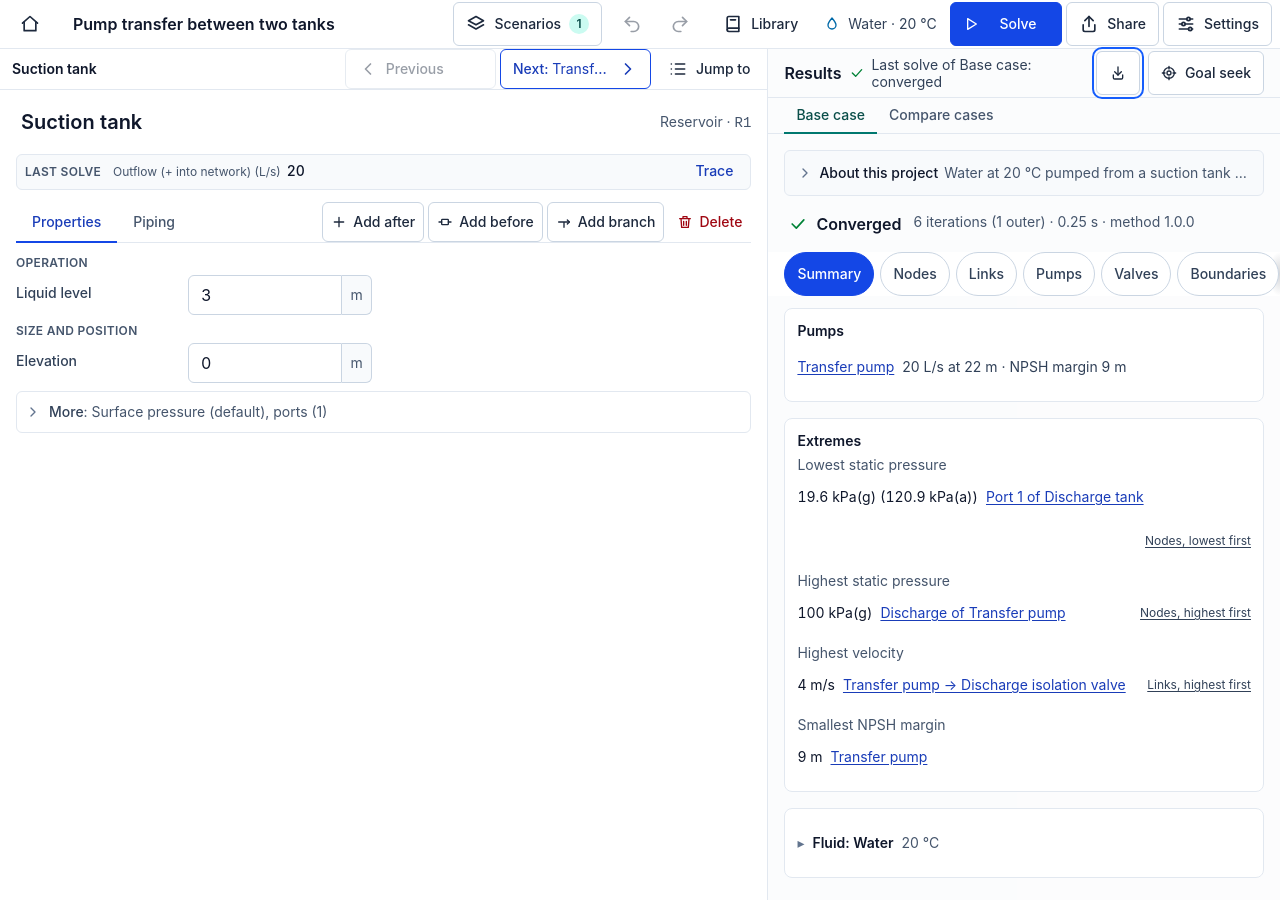
Test case: the export dialog › with scenarios: the case shown or all cases, all cases by default on Compare cases
Click the button named "Export results of Base case" at (1118, 73), box x1=1096 y1=51 x2=1140 y2=95
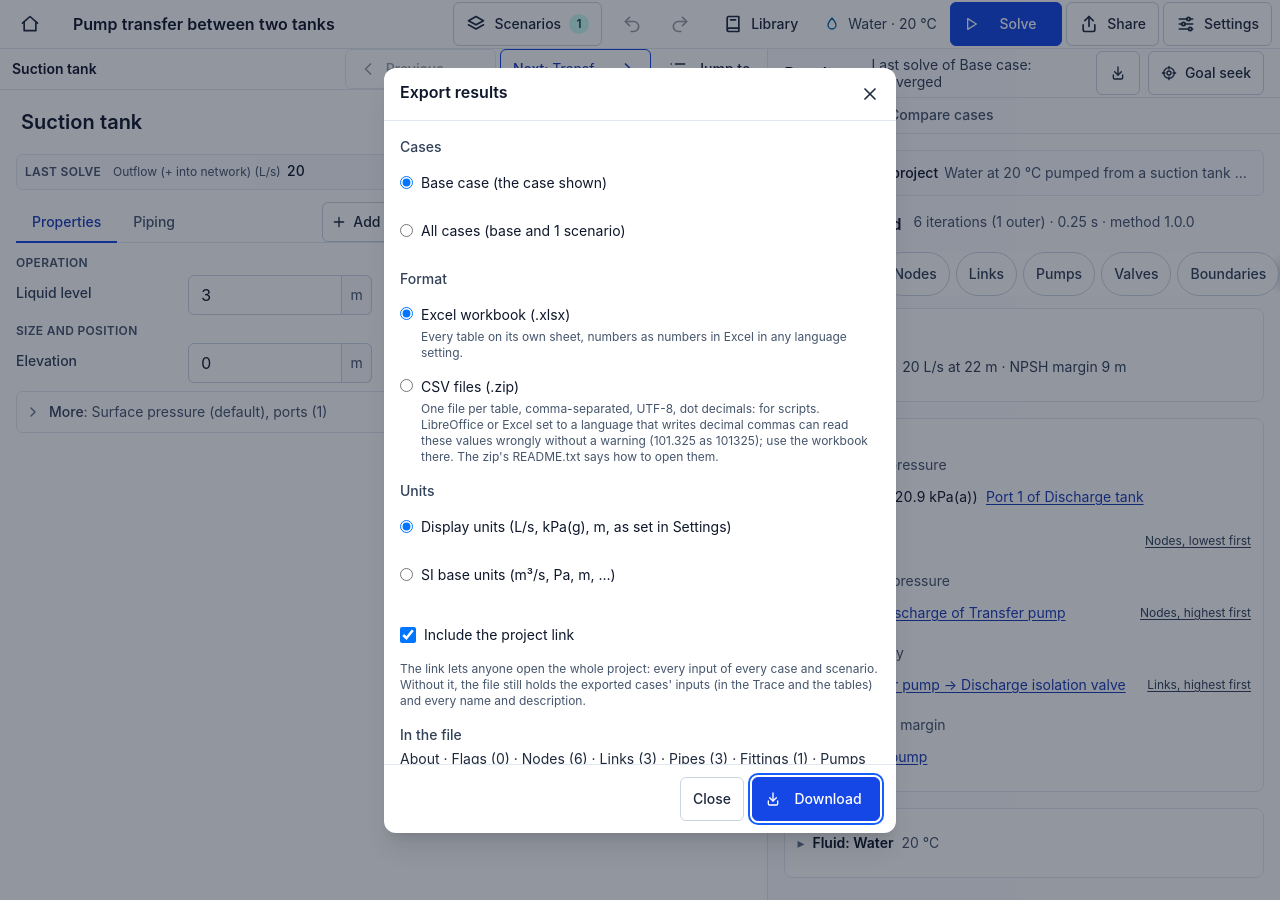
Check: the text "Compare cases" is not shown
Check: the radio button labelled "Base case (the case shown)" is checked, box x1=400 y1=176 x2=413 y2=189
Check: the radio button labelled "All cases (base and 1 scenario)" is not checked
Click the radio button labelled "All cases (base and 1 scenario)" at (406, 230), box x1=400 y1=224 x2=413 y2=237
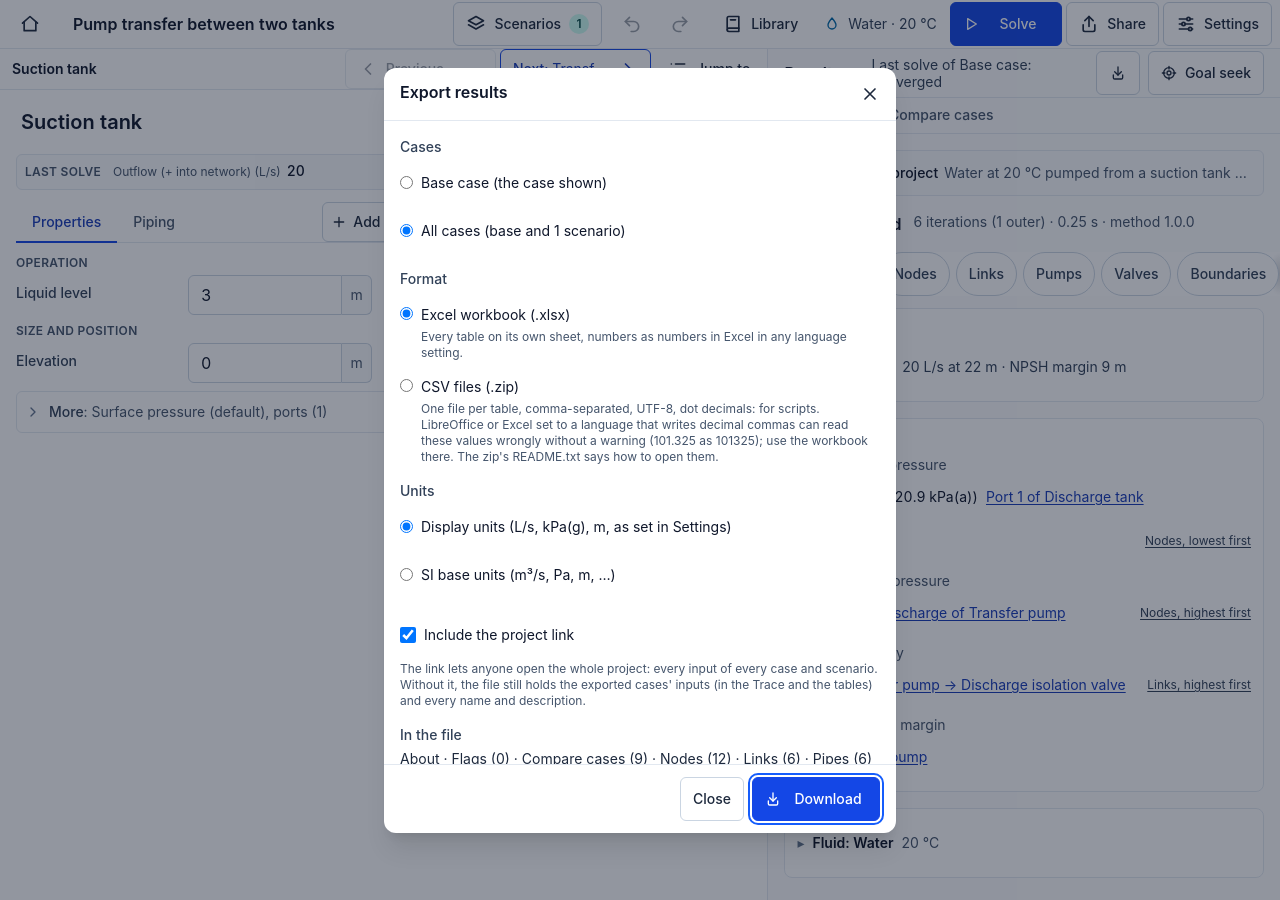
Check: the text "Trace" is not shown
Click the button "Close" at (712, 798), box x1=680 y1=776 x2=744 y2=820
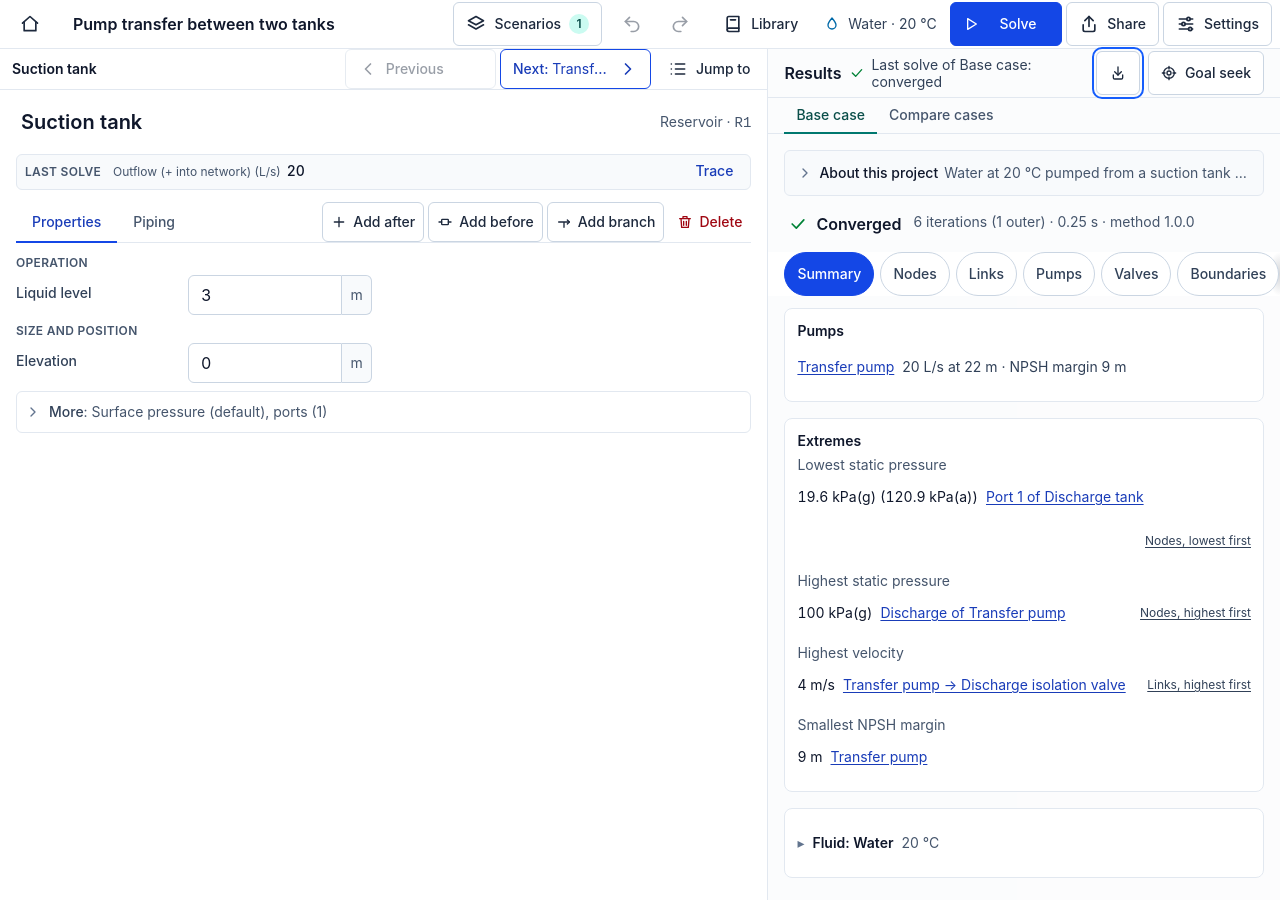
Click the tab "Compare cases" at (941, 116), box x1=877 y1=98 x2=1006 y2=134
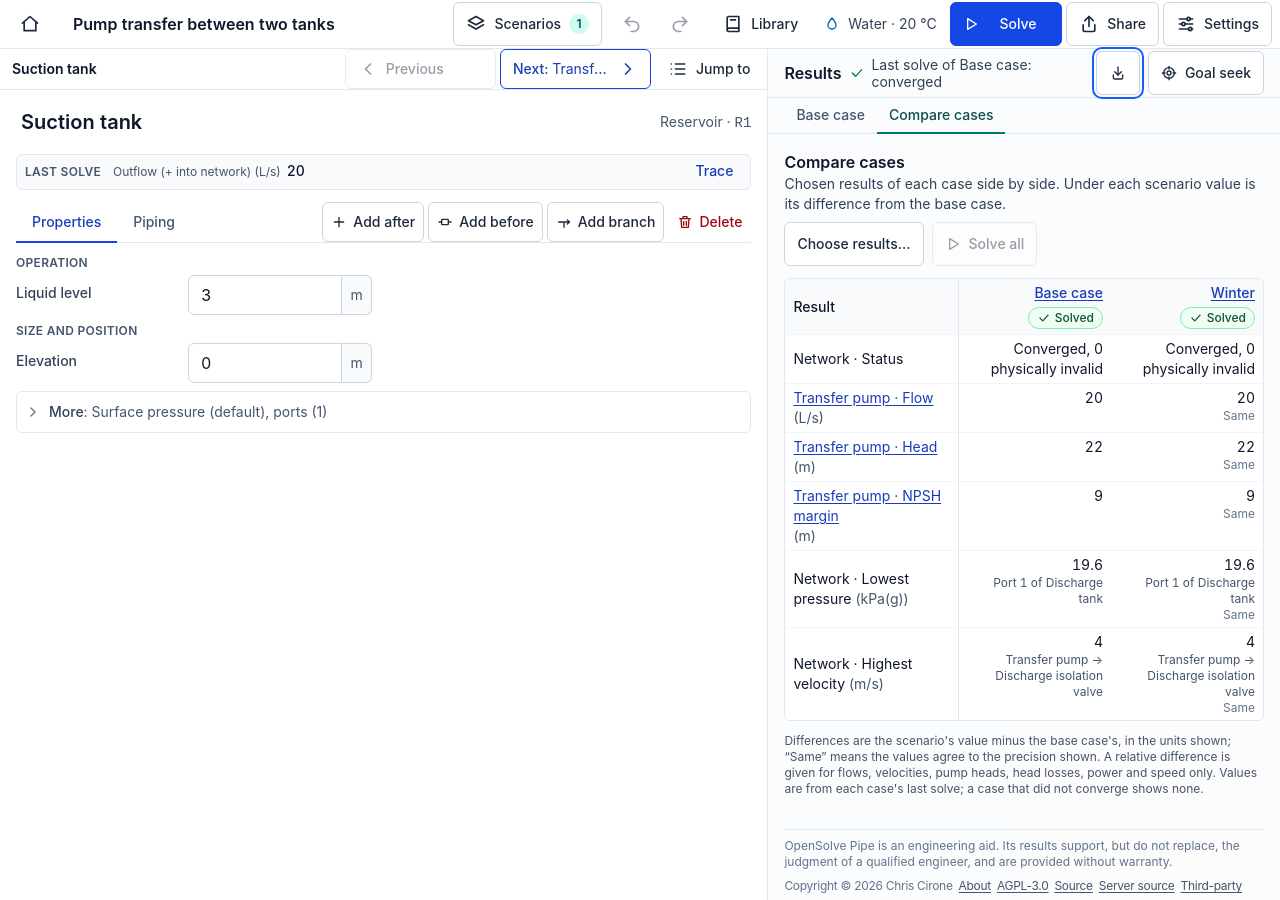
Click the button named "Export results of all cases" at (1118, 73), box x1=1096 y1=51 x2=1140 y2=95
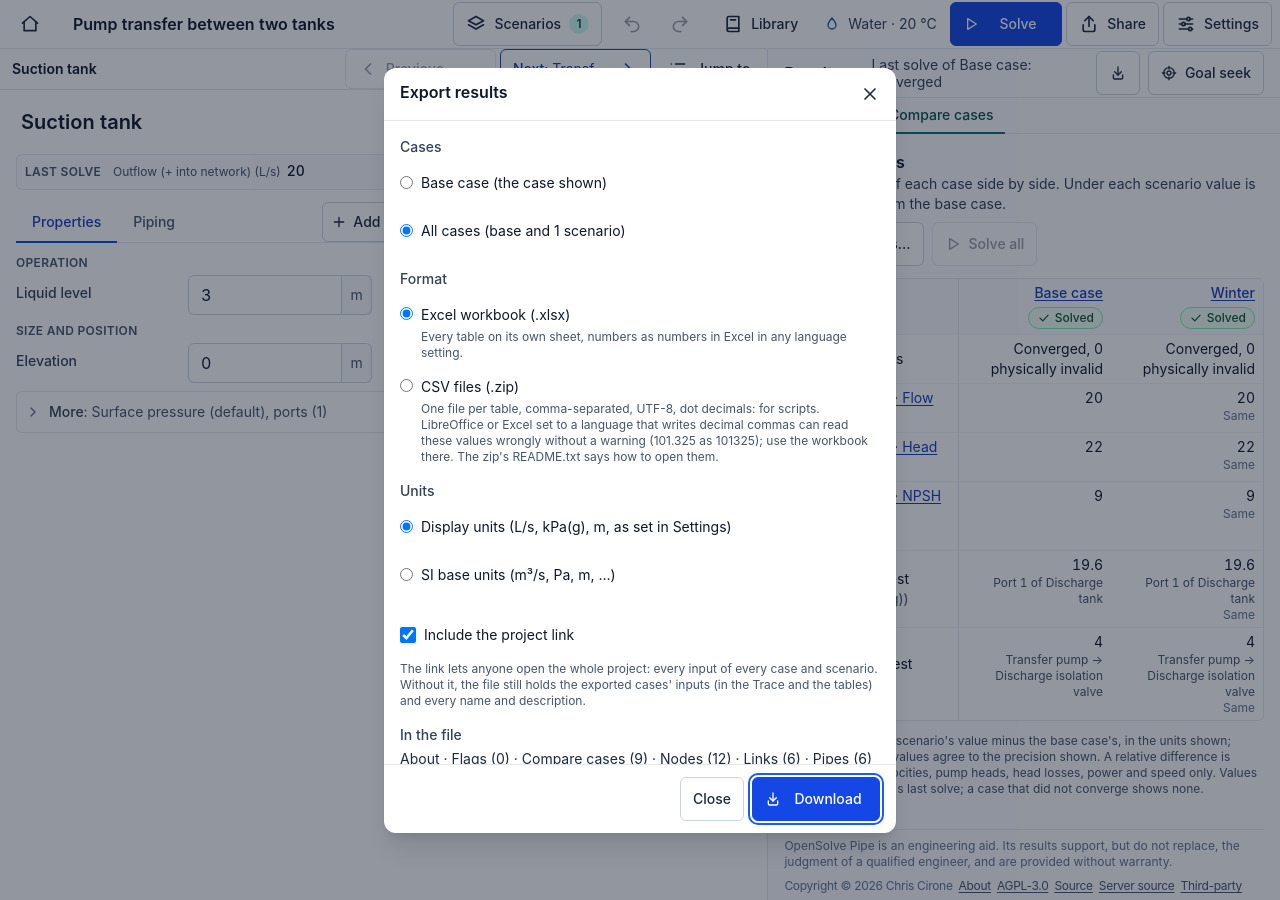
Check: the radio button labelled "All cases (base and 1 scenario)" is checked, box x1=400 y1=224 x2=413 y2=237
